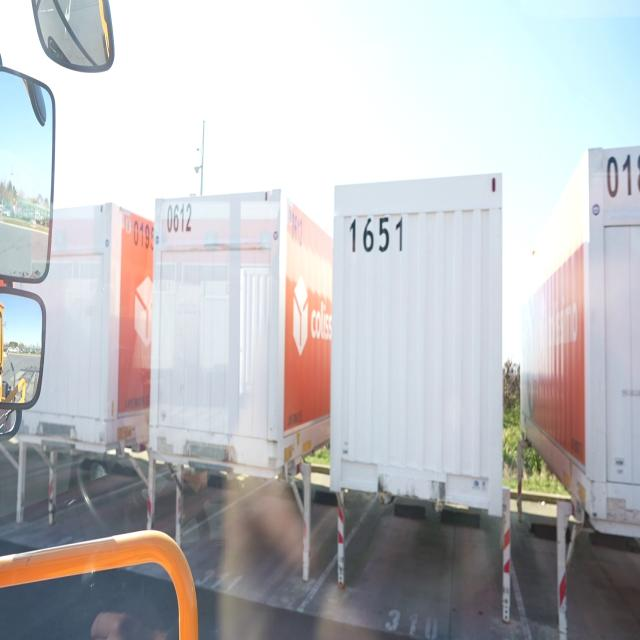Code: (345, 208, 408, 258), (164, 200, 200, 243)
